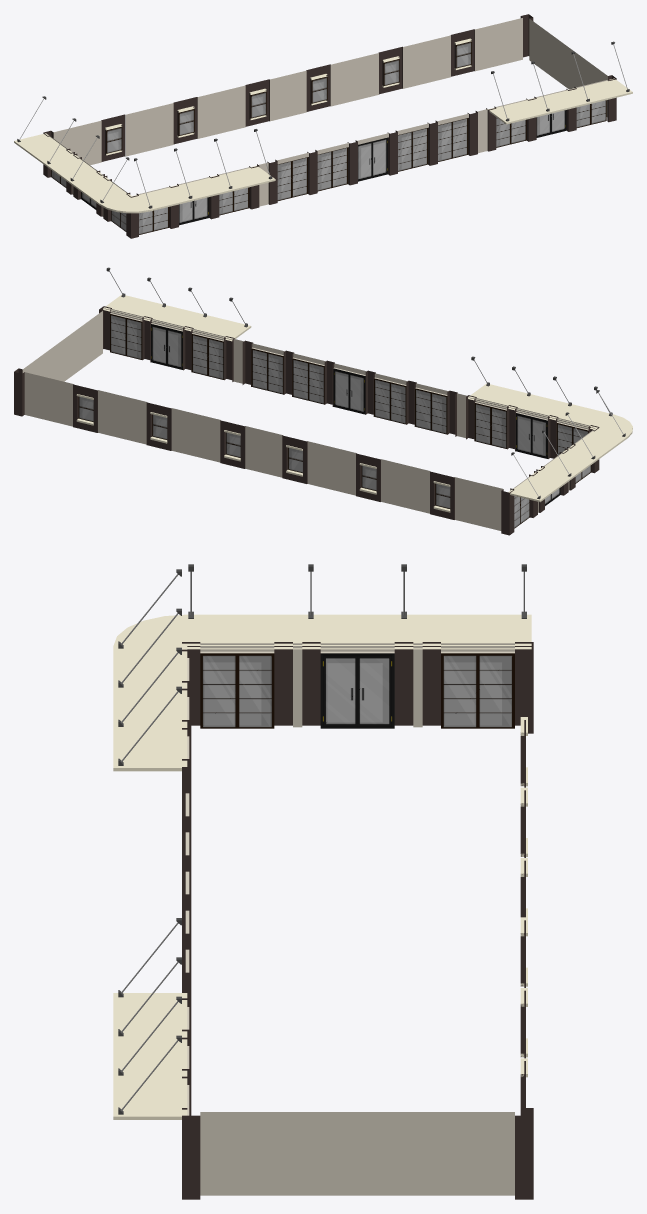
Rendered from BuildingSmall2_1.fbx.
3 views of the same model, one above another, from view 1: azimuth 30°, elevation 25°; view 2: azimuth 150°, elevation 25°; view 3: azimuth 270°, elevation 25° (orthographic). The views are drawn at different scales.
Parts seen in each view (by area): view 1: BuildingSmall2_1; view 2: BuildingSmall2_1; view 3: BuildingSmall2_1.
Part boxes in pixels (left/top/right/bottom): BuildingSmall2_1: left=14, top=14, right=632, bottom=238; BuildingSmall2_1: left=14, top=267, right=632, bottom=535; BuildingSmall2_1: left=113, top=564, right=533, bottom=1199.
Bounding box in the file's own units: 6430 × 948 × 2270.
